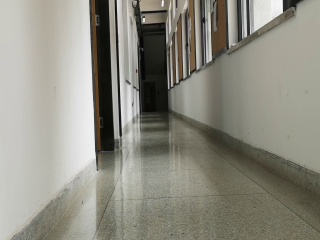room: (85, 1, 116, 155)
